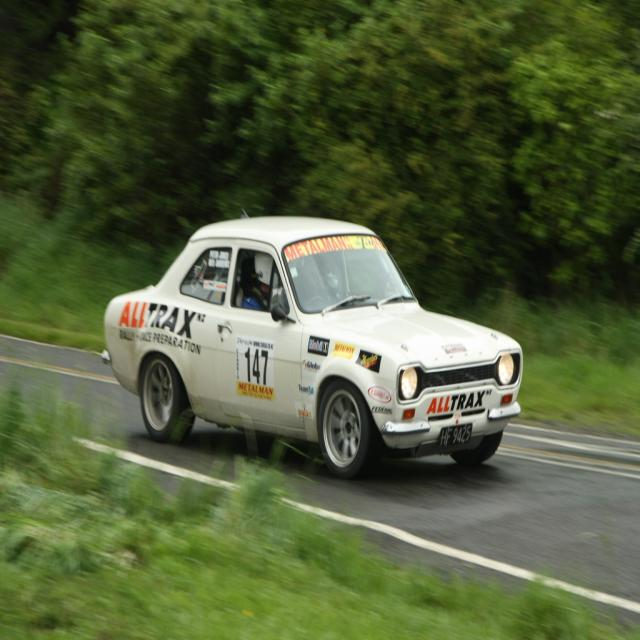car: (94, 222, 529, 480)
